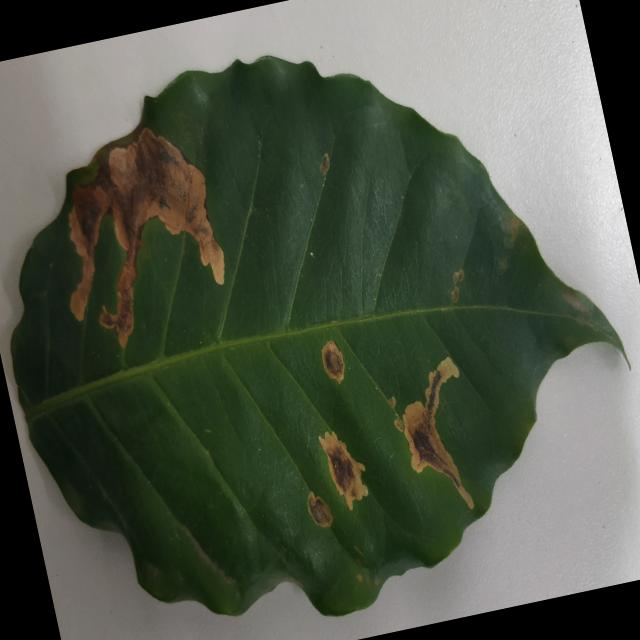PengorokDaunKopi: (69, 128, 224, 347), (70, 127, 224, 346), (403, 357, 473, 508), (318, 431, 368, 509), (322, 340, 344, 384), (307, 492, 333, 527), (320, 153, 329, 176), (394, 417, 403, 433), (451, 286, 458, 302), (389, 396, 396, 408), (457, 269, 464, 281)
